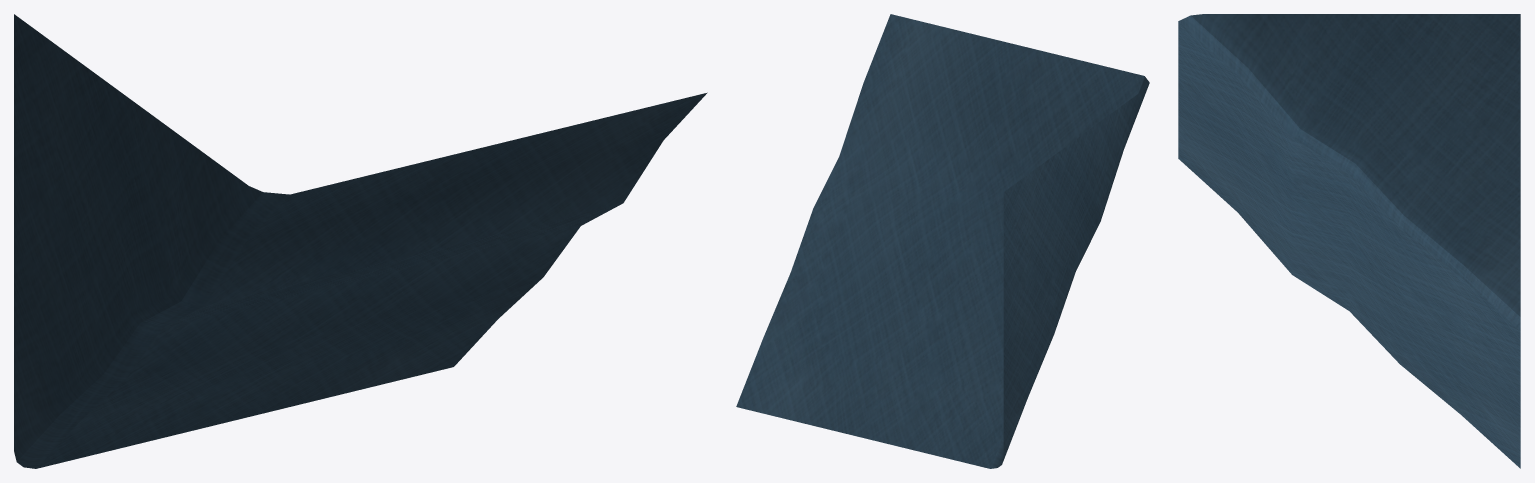
File: tl_slopeL.FBX
The picture shows the model from 3 angles, left to right: view 1: azimuth 30°, elevation 25°; view 2: azimuth 150°, elevation 25°; view 3: azimuth 270°, elevation 25°; orthographic projection. The views are drawn at different scales.
Parts seen in each view (by area): view 1: tl_slopeL_MESH; view 2: tl_slopeL_MESH; view 3: tl_slopeL_MESH.
Boxes of the visible parts, left/top/right/bottom form: tl_slopeL_MESH: left=14, top=14, right=707, bottom=468; tl_slopeL_MESH: left=736, top=14, right=1149, bottom=468; tl_slopeL_MESH: left=1178, top=14, right=1520, bottom=468.
Bounding box in the file's own units: 100 × 100 × 100.
